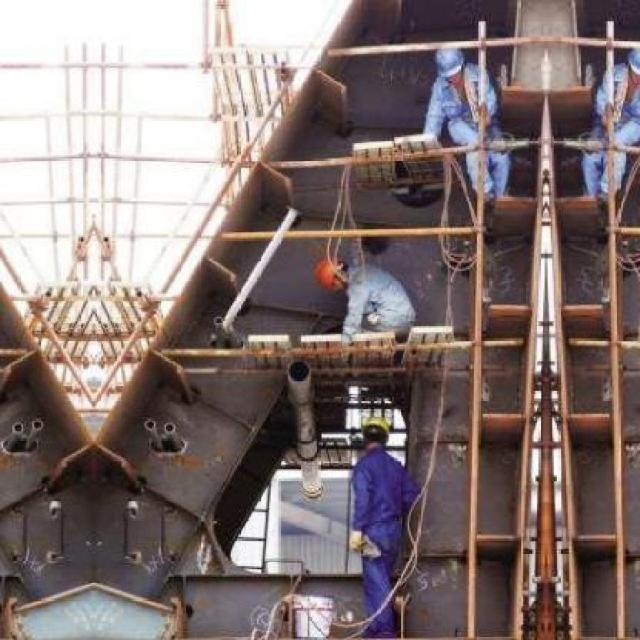hat: (432, 43, 466, 75), (316, 253, 345, 290), (362, 417, 391, 437)
